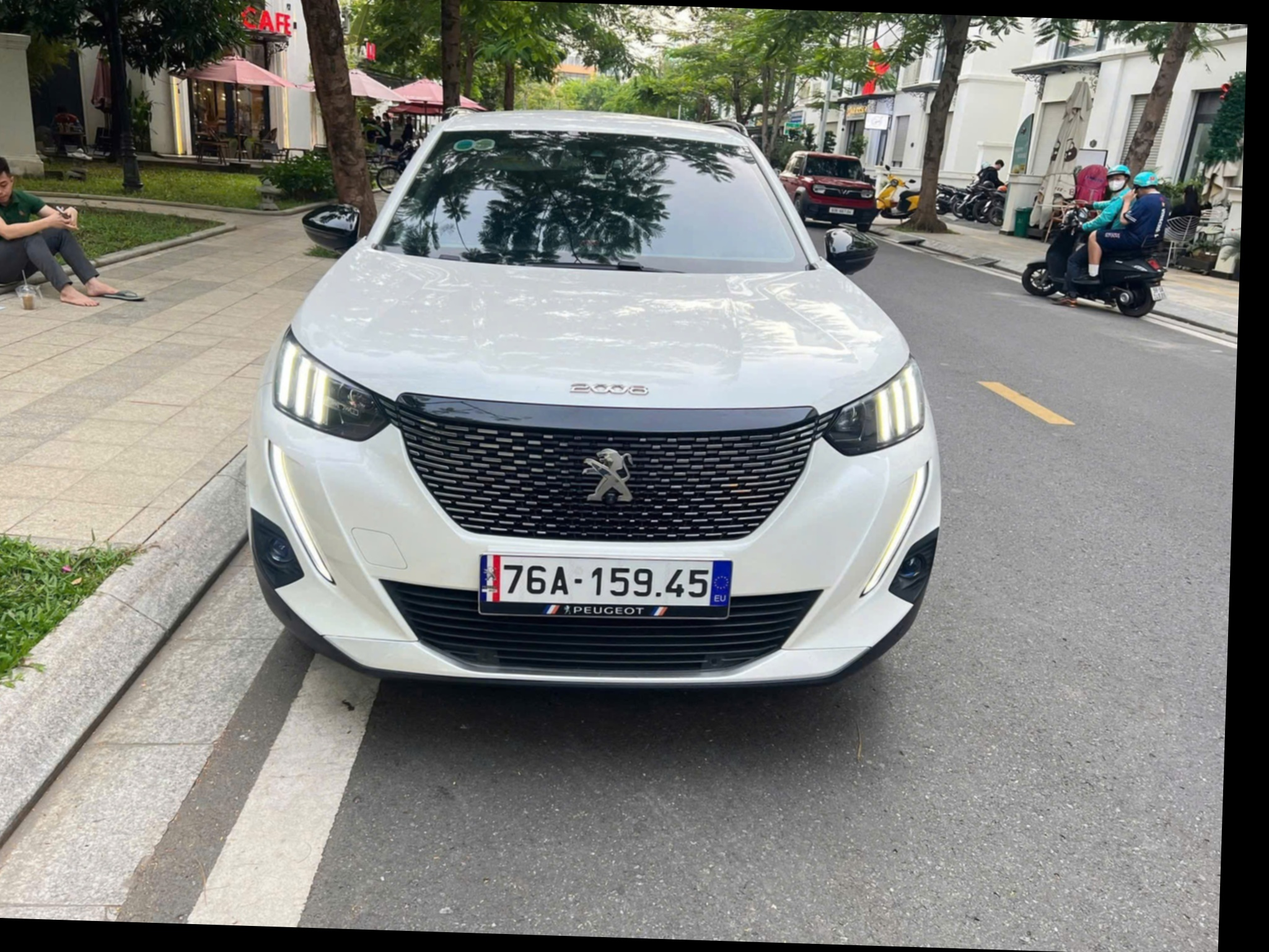Bien-so: (526, 566, 743, 627)
